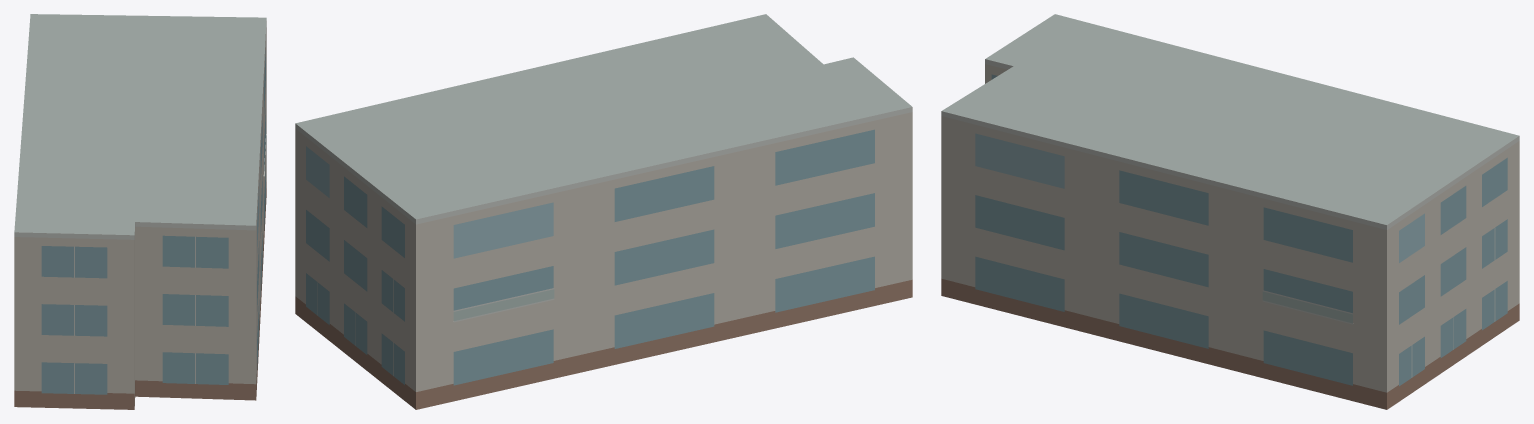
File: survey-upis-32478210.glb
3 views of the same model, side by side, from view 1: azimuth 30°, elevation 25°; view 2: azimuth 150°, elevation 25°; view 3: azimuth 270°, elevation 25° (orthographic). The views are drawn at different scales.
Visible parts, largest first — view 1: survey-upis-32478210.tmp; view 2: survey-upis-32478210.tmp; view 3: survey-upis-32478210.tmp.
Boxes of the visible parts, x1=… form: survey-upis-32478210.tmp: x1=14, y1=14, x2=266, y2=409; survey-upis-32478210.tmp: x1=295, y1=14, x2=912, y2=409; survey-upis-32478210.tmp: x1=941, y1=14, x2=1519, y2=409.
Size of the model in its own units: 22.45 by 9.15 by 25.97.
